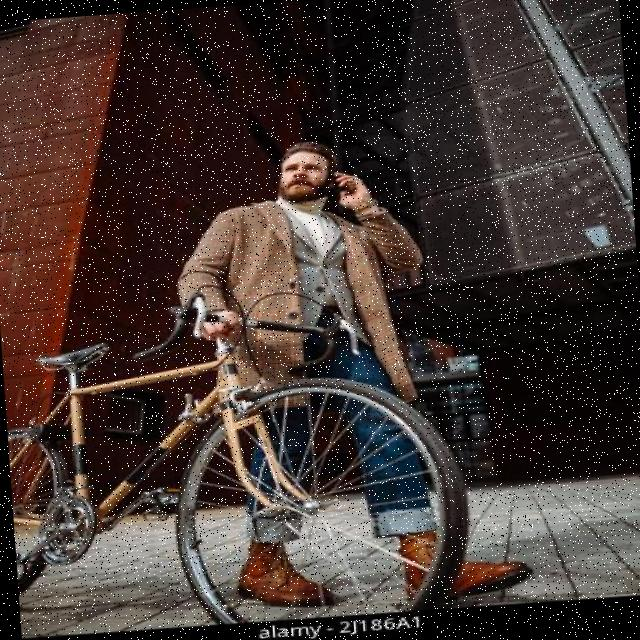Using mobile: (259, 127, 390, 255)
